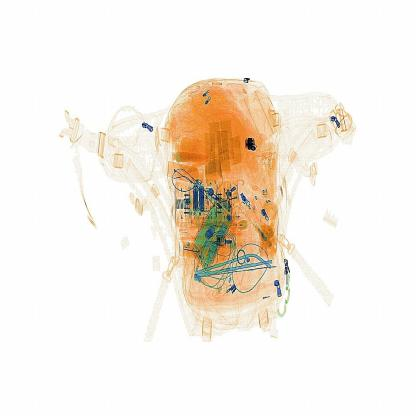scissors: (241, 131, 258, 157)
